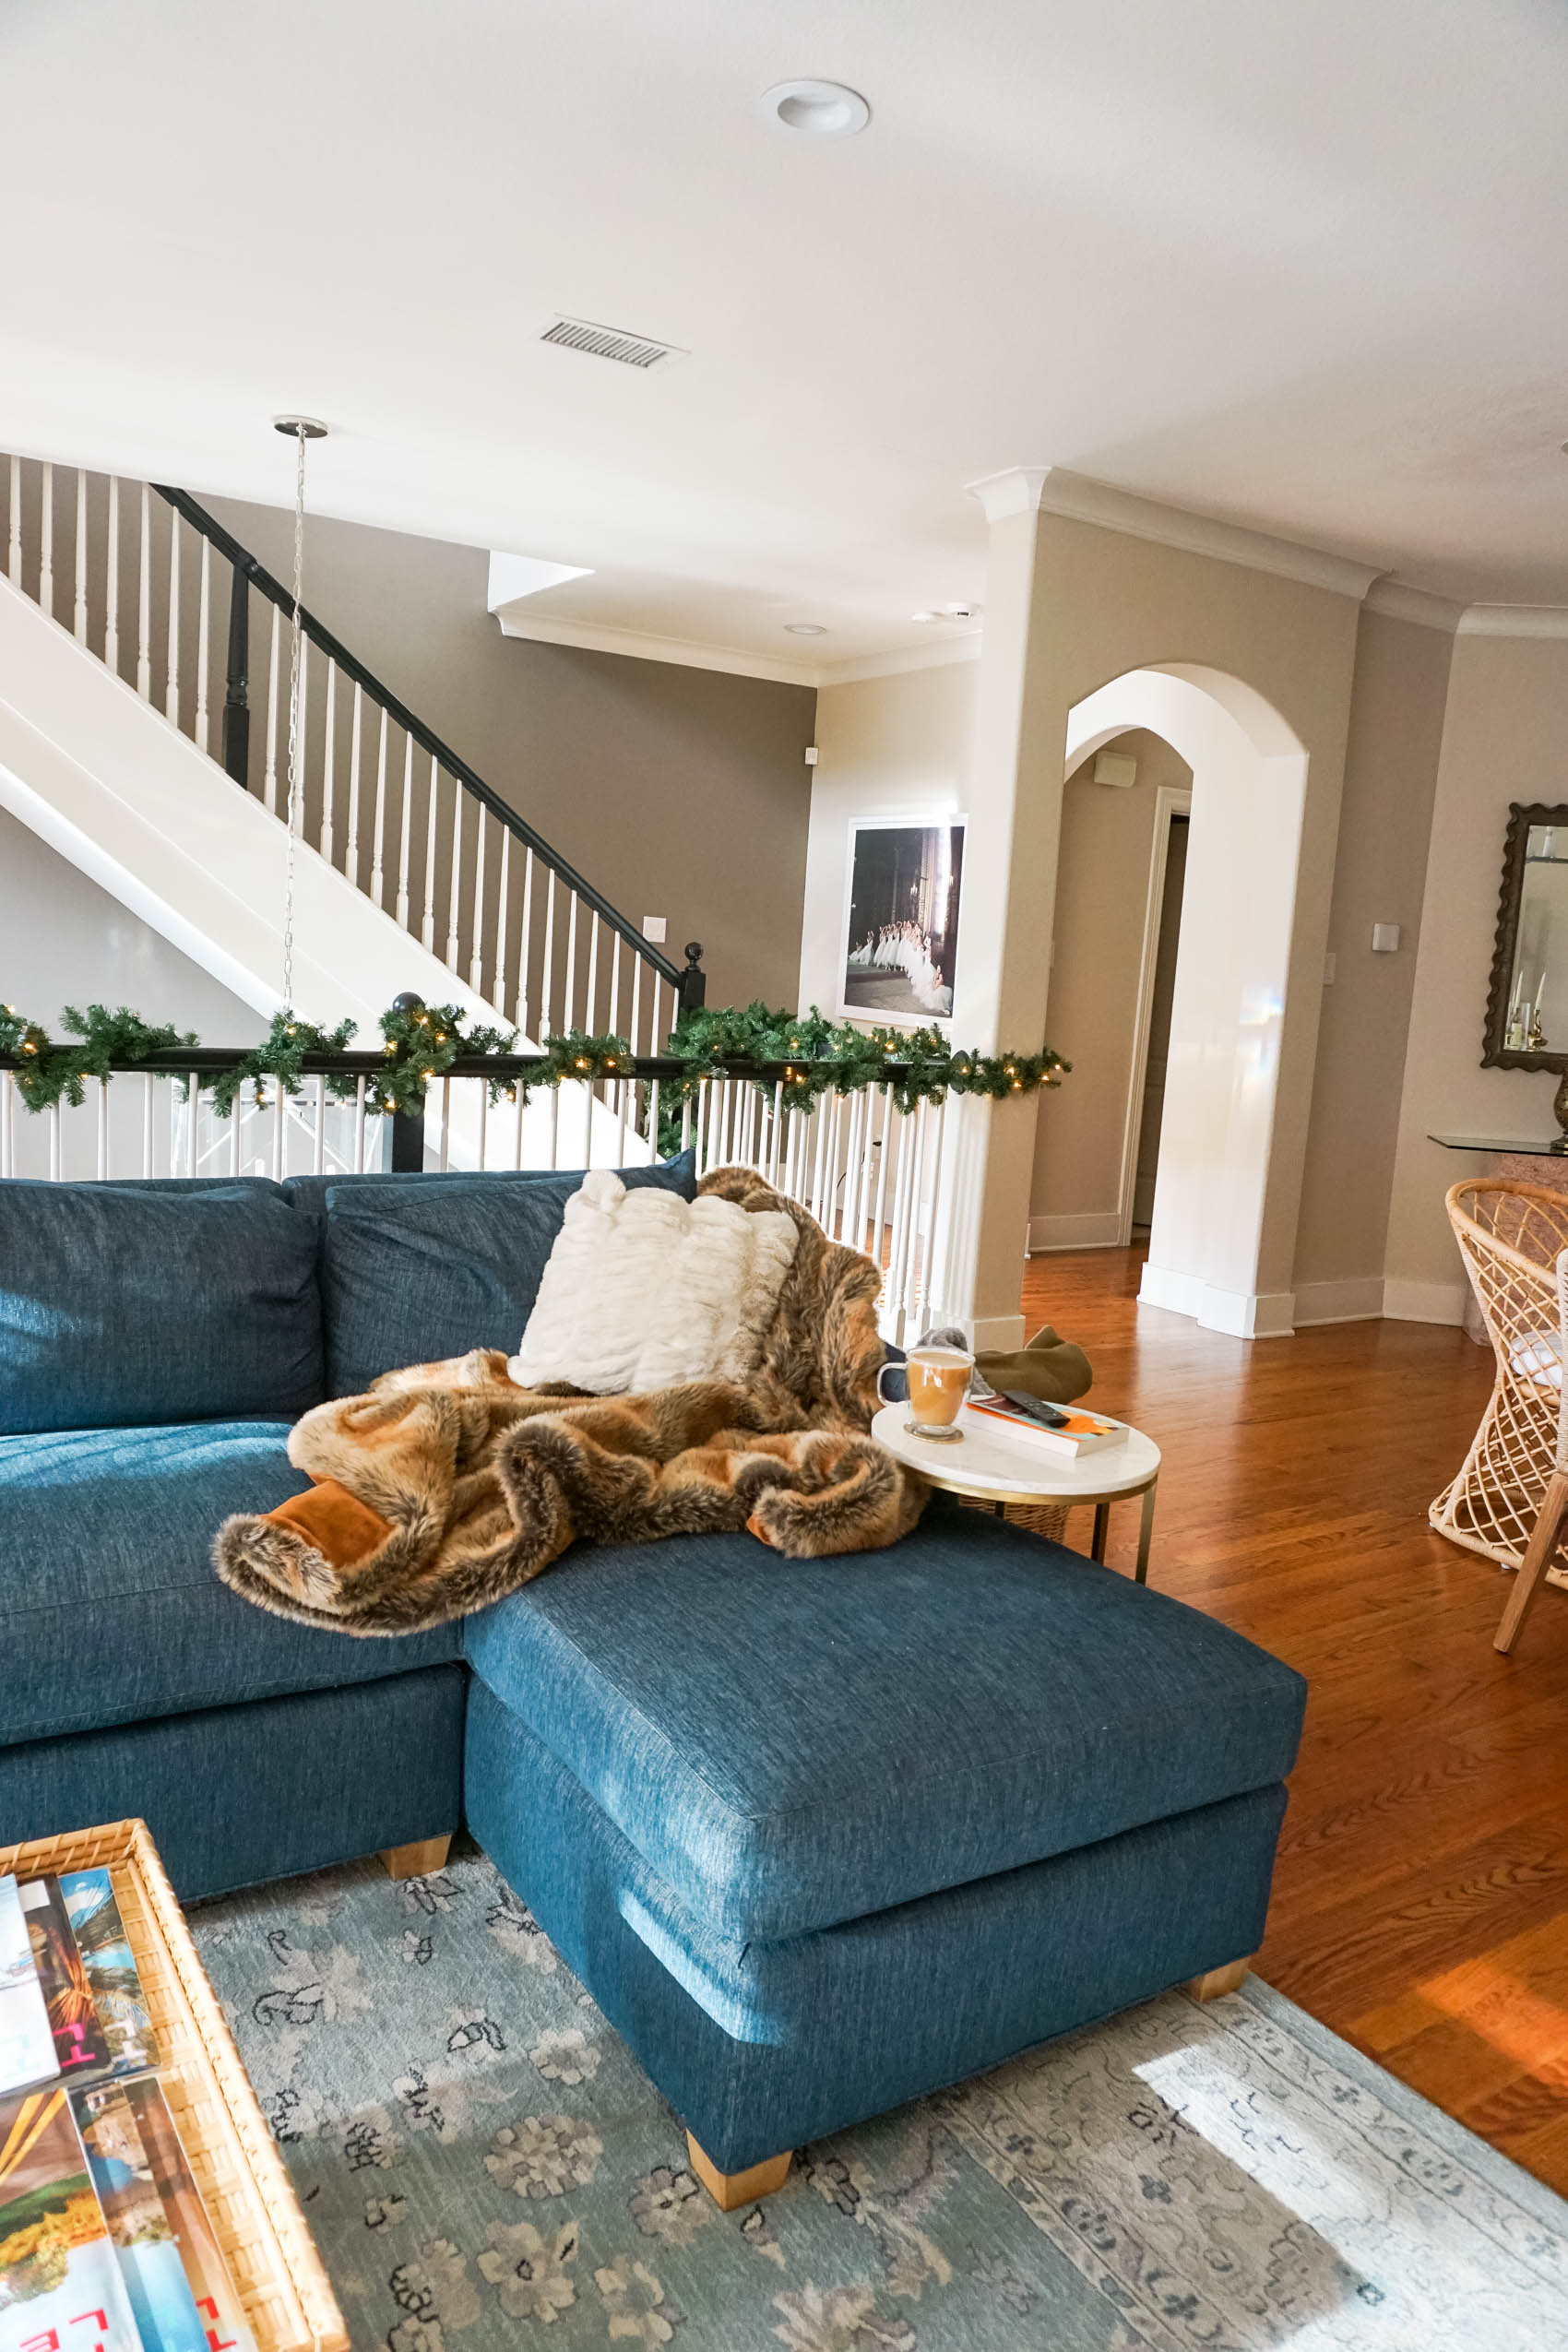biru: (451, 1529, 1323, 2033)
putih: (513, 1186, 765, 1395)
